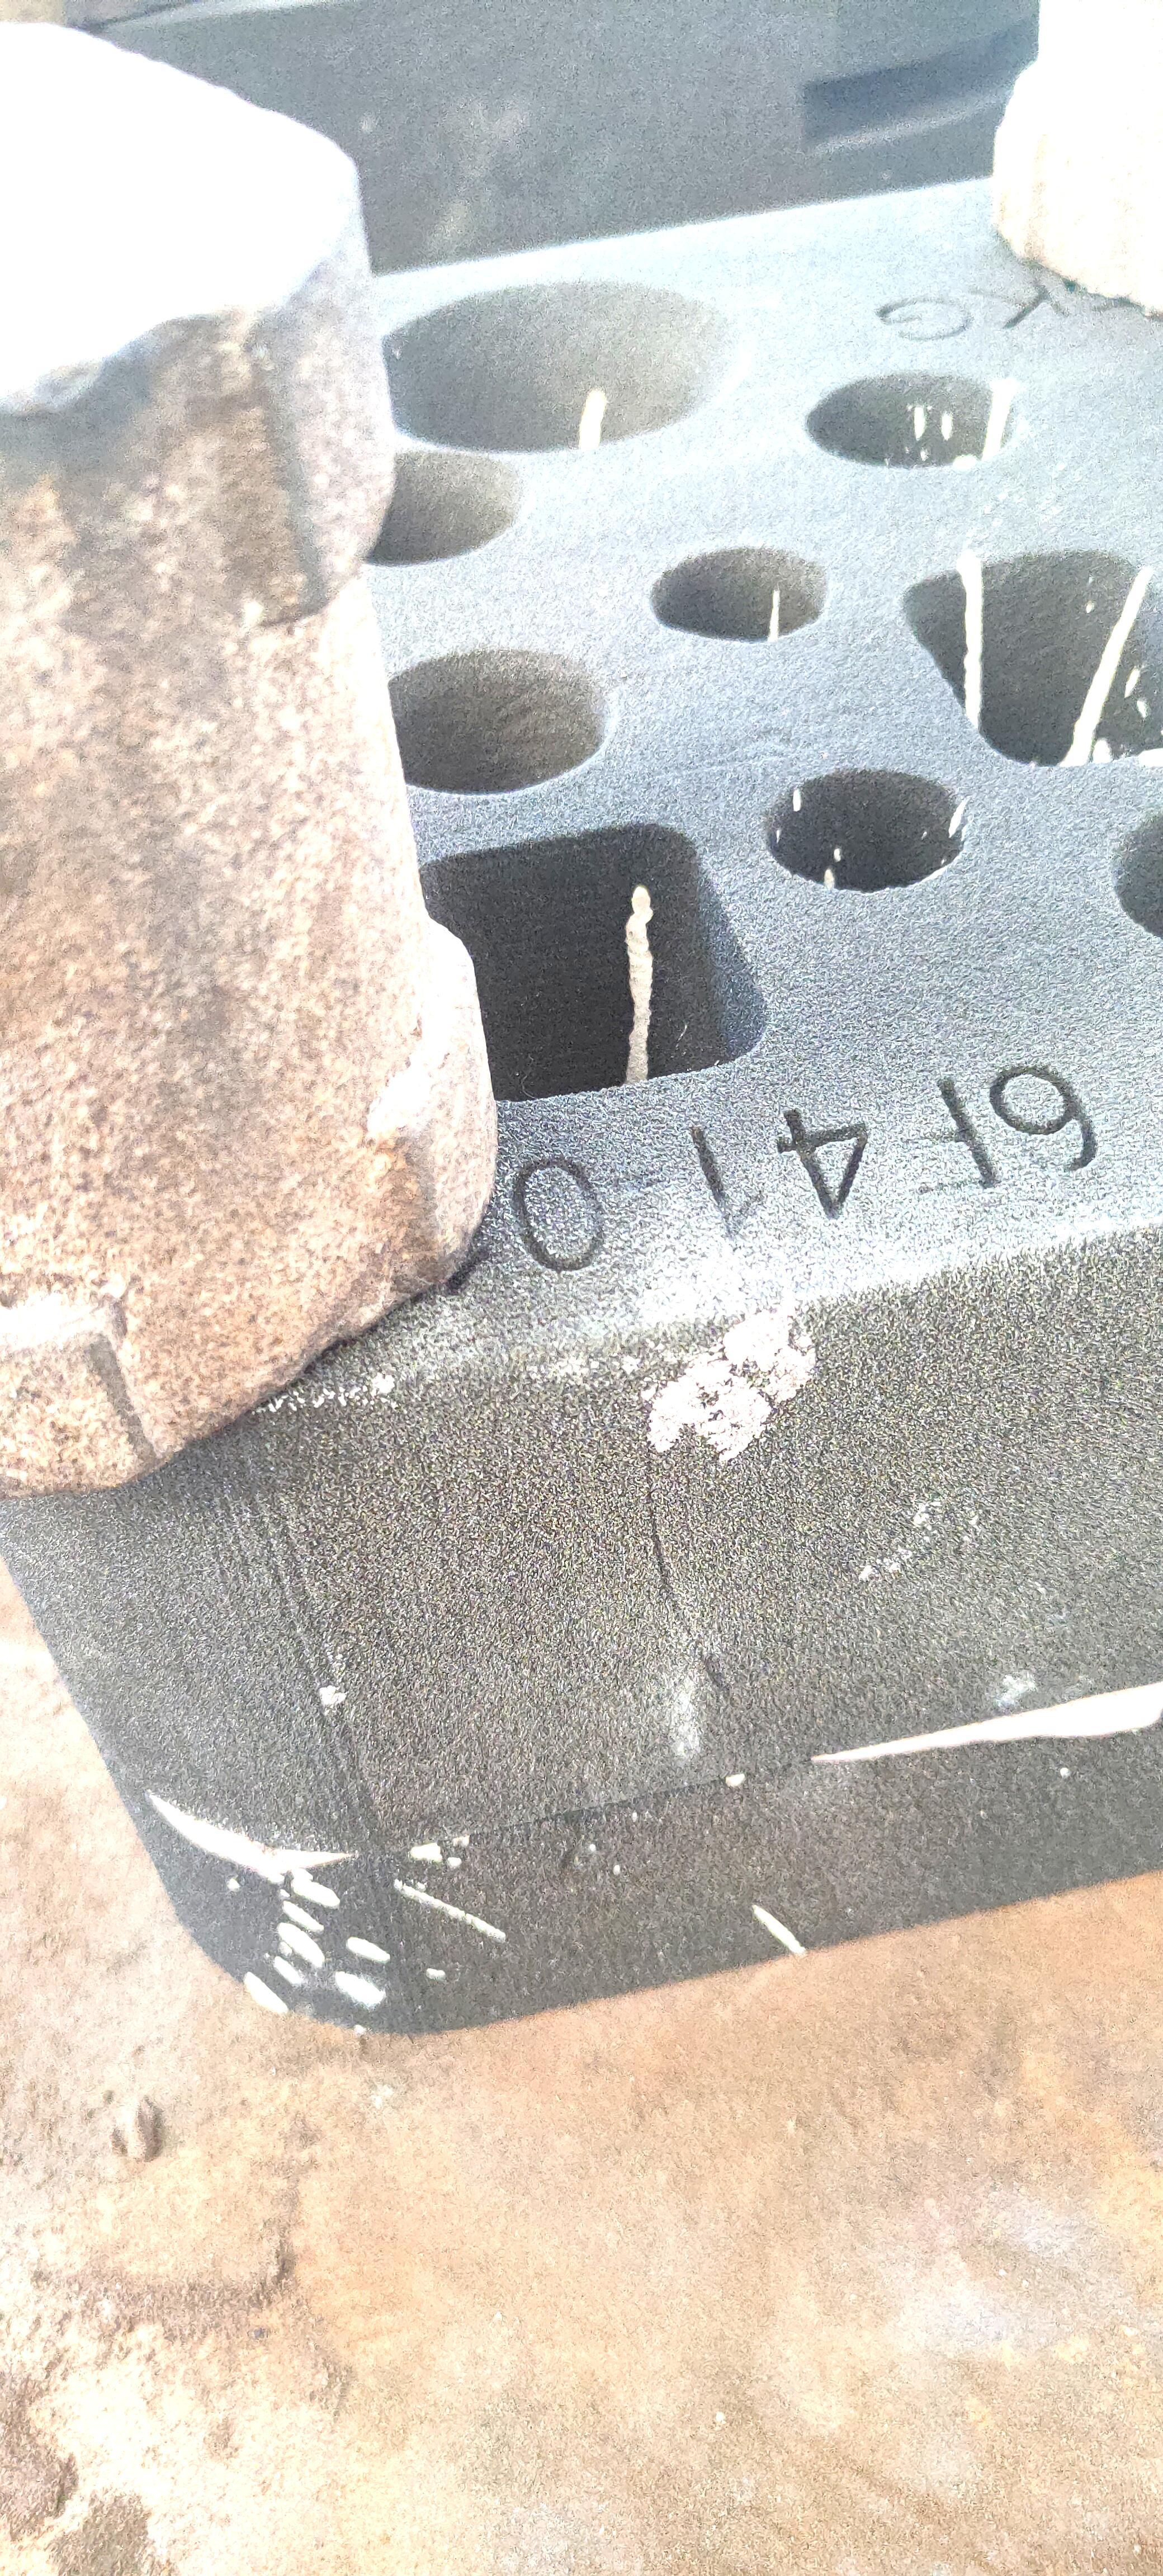pouring hole: (370, 273, 744, 455)
